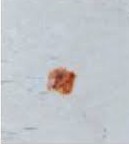Corrosion: (45, 65, 77, 96)
